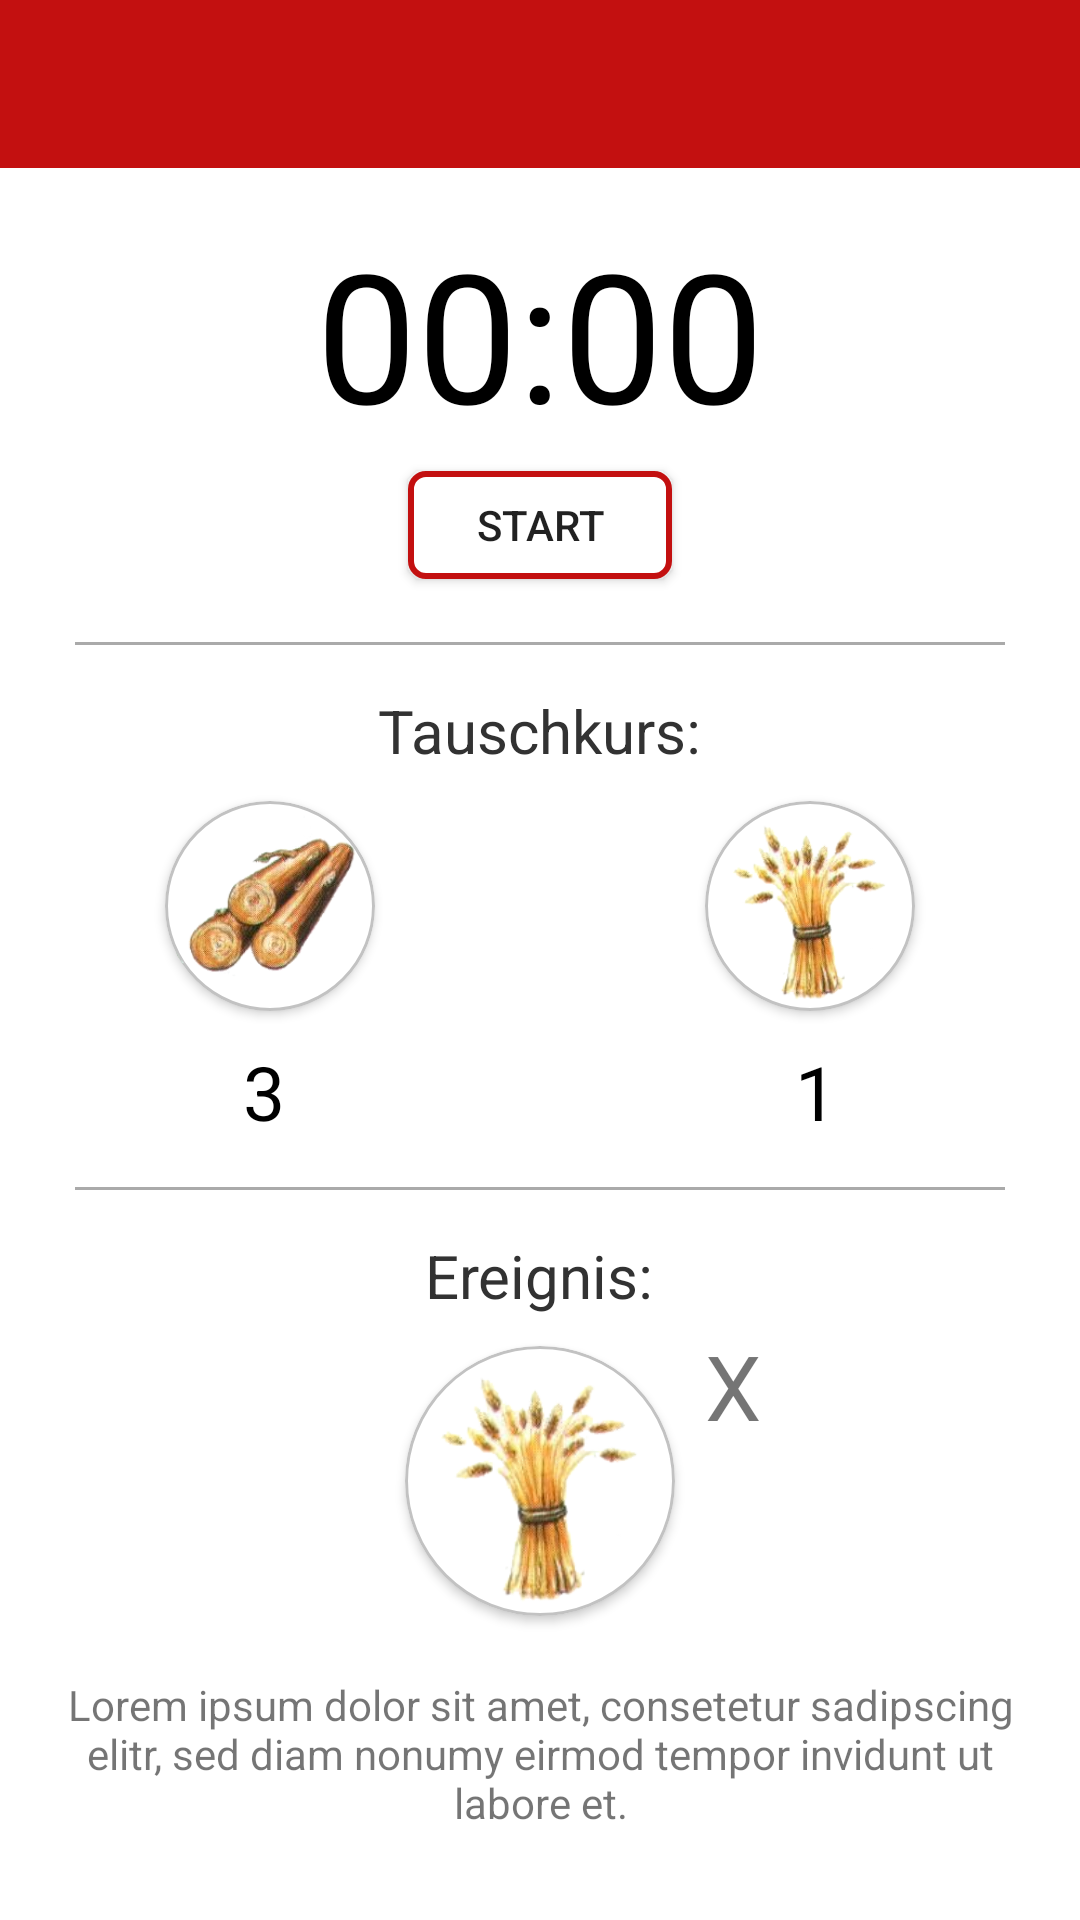

Where icons sit on this 1080 x 1920 app screen, as (x1, y1, x2, y2):
grain: (705, 801, 915, 1011), (405, 1346, 675, 1616)
wood: (165, 801, 375, 1011)
